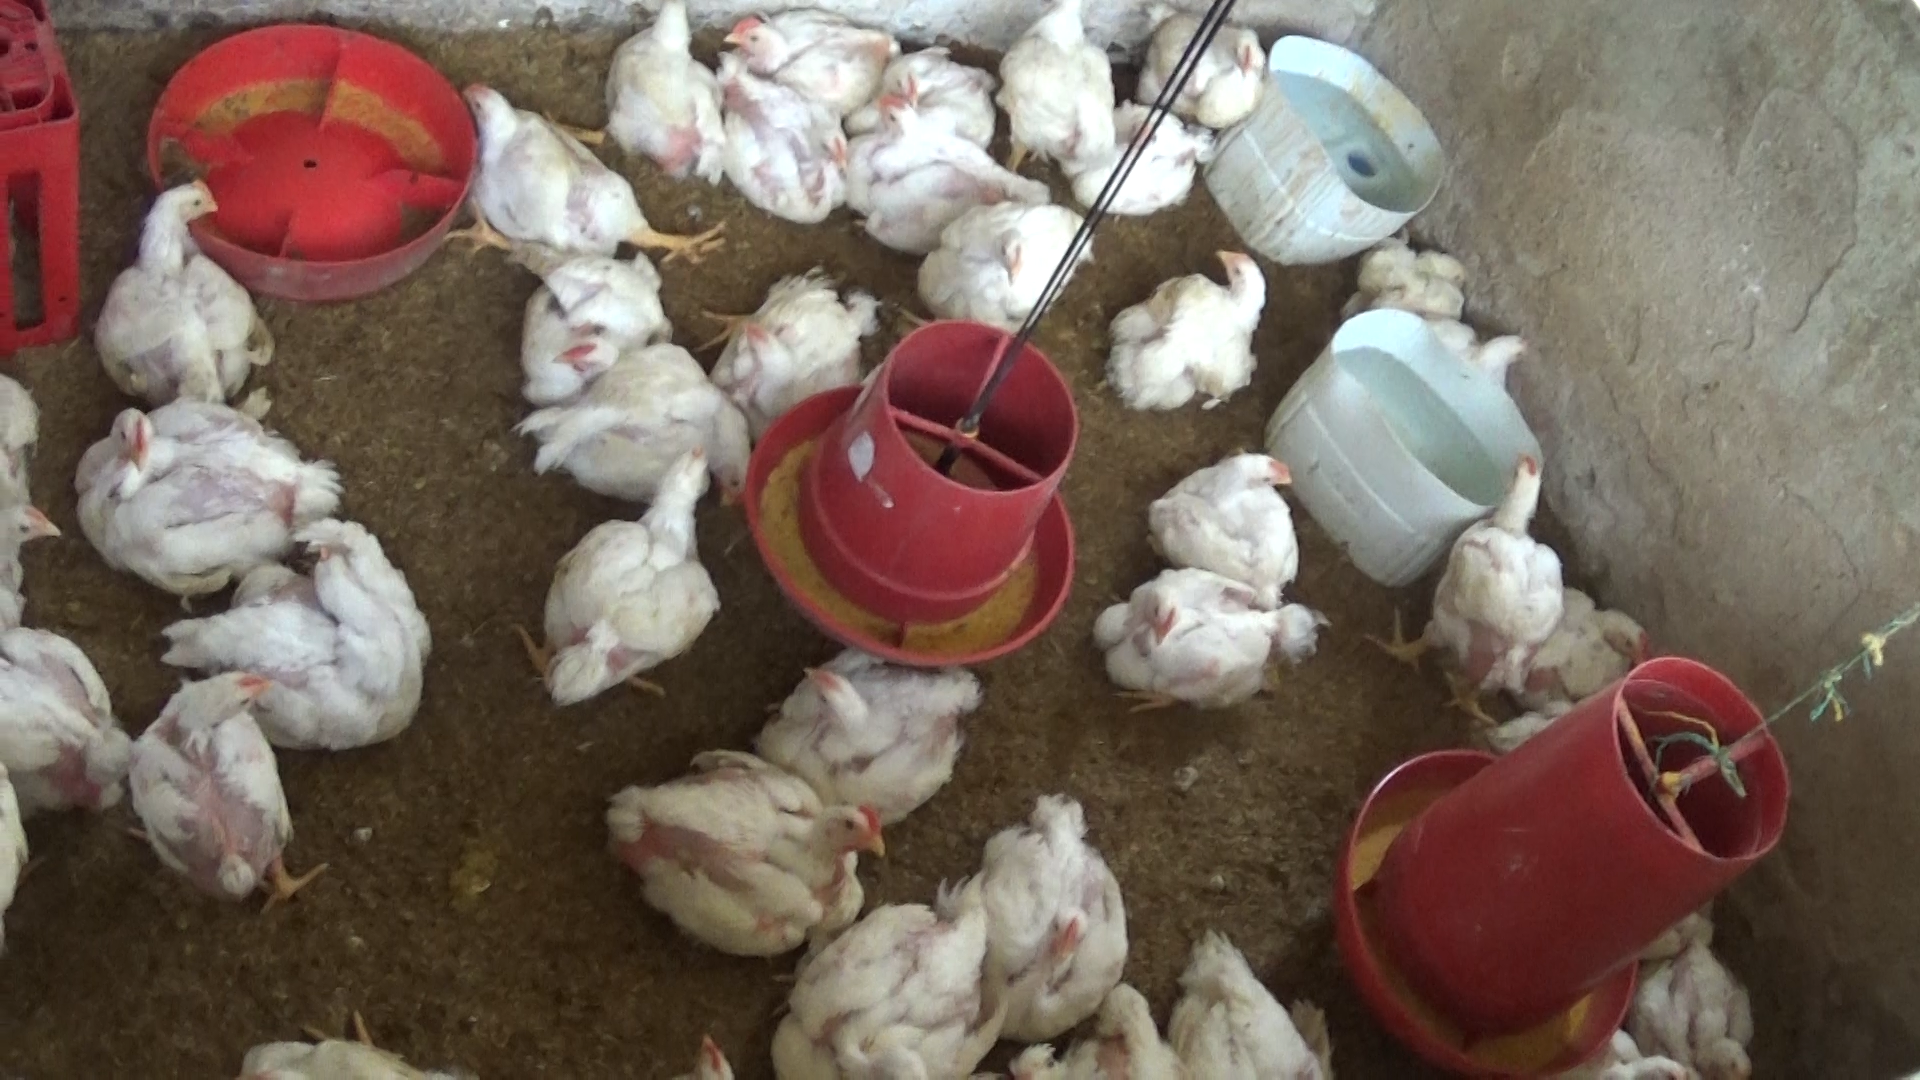Pollos: (164, 517, 435, 748), (597, 742, 884, 957), (1360, 444, 1567, 719), (524, 443, 735, 683), (444, 78, 711, 266), (86, 169, 281, 419), (74, 397, 334, 583), (471, 191, 684, 400), (956, 787, 1127, 1044), (132, 665, 306, 918), (764, 902, 997, 1077), (775, 640, 981, 825), (1095, 558, 1323, 723), (542, 343, 760, 504), (1133, 444, 1311, 607), (1105, 232, 1271, 404), (897, 204, 1092, 345), (713, 268, 868, 419), (866, 91, 1029, 233), (994, 4, 1116, 193), (720, 59, 853, 219), (592, 0, 717, 156), (1642, 931, 1764, 1080), (1528, 570, 1658, 705), (717, 4, 891, 104), (1069, 98, 1209, 219), (1147, 0, 1261, 146), (0, 498, 65, 624)
